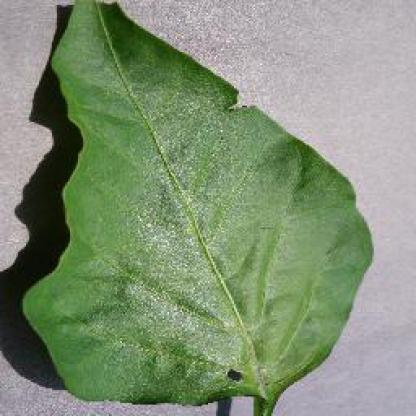good leaf: (45, 7, 312, 374)
